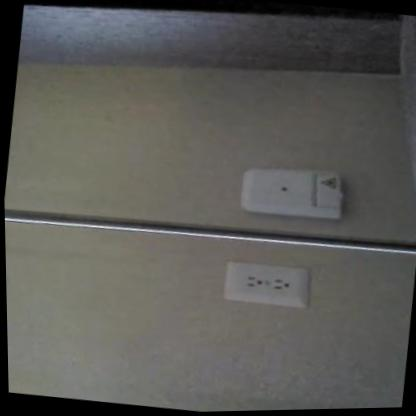OUTLET: (222, 257, 311, 309)
